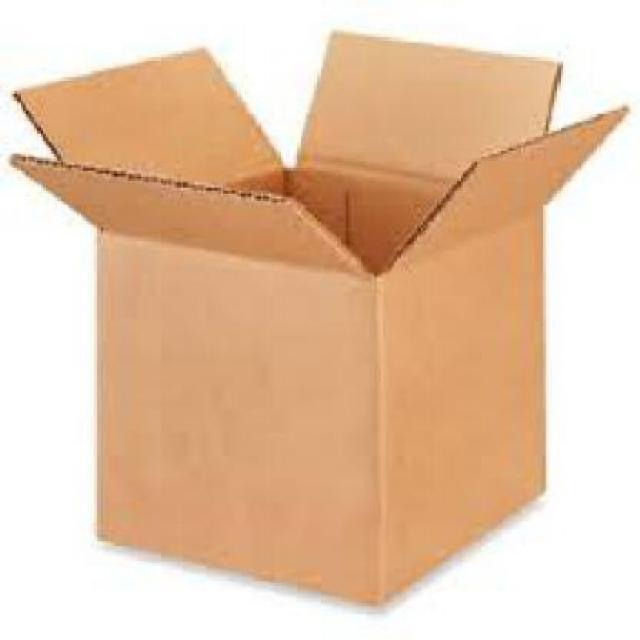box: (13, 26, 633, 605)
